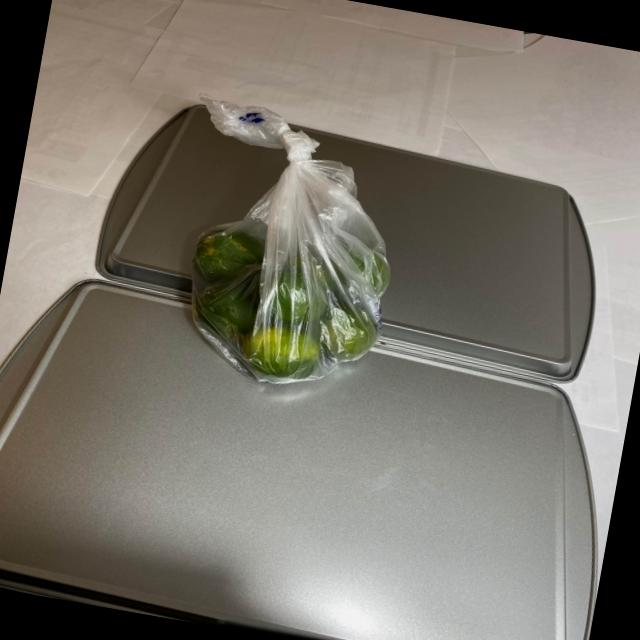lemon: (168, 200, 404, 406)
